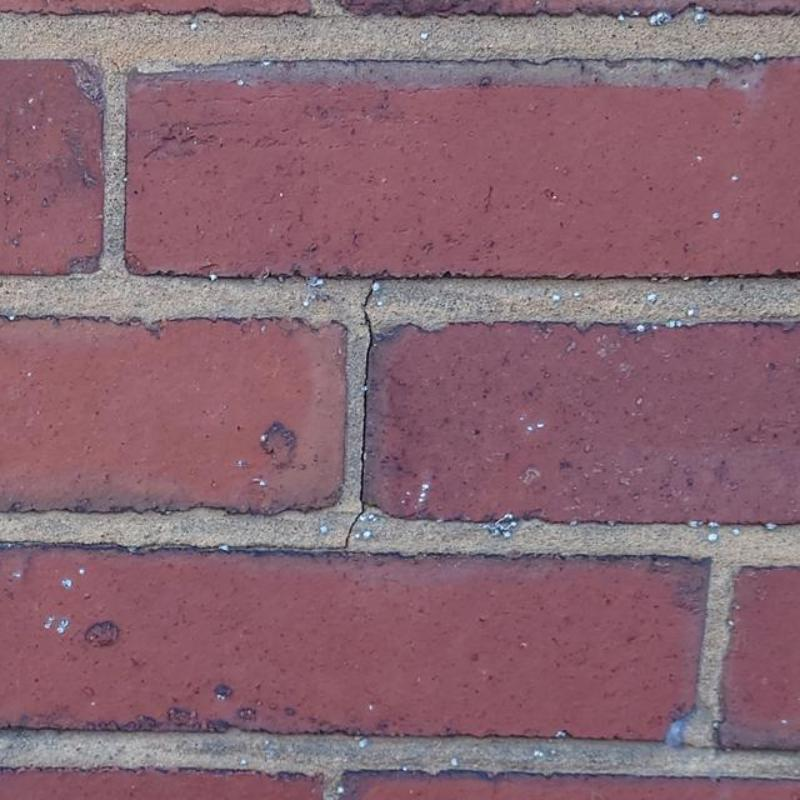pothole: (344, 279, 376, 548)
